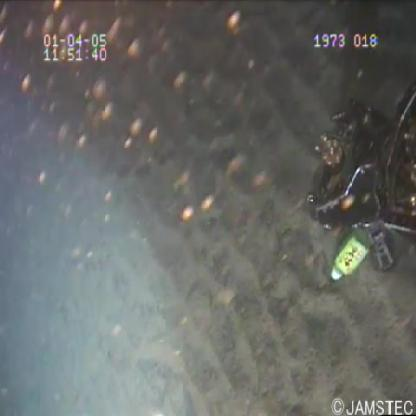Rov: (302, 69, 416, 275)
Rác: (330, 228, 374, 286)
